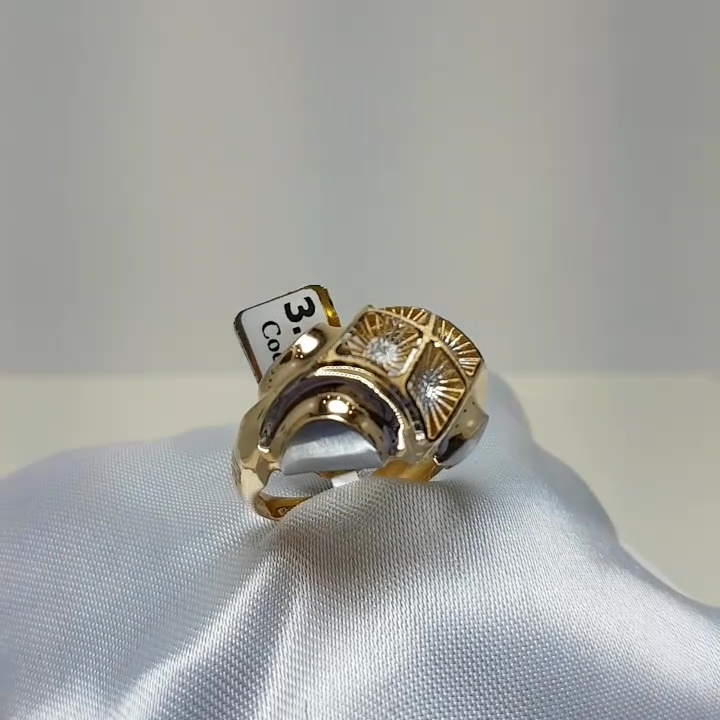Ring 2: (202, 280, 507, 517)
